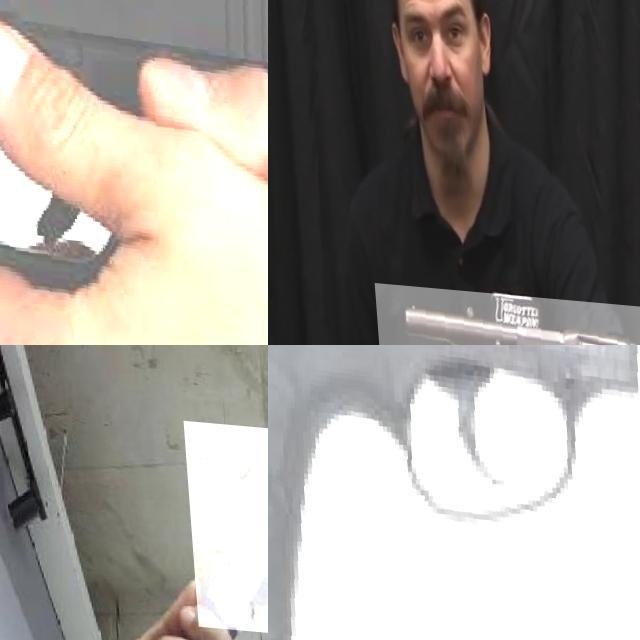-: (178, 414, 268, 629)
gun-knife-thesis - v11 Yolov5 augmented: (268, 345, 640, 640), (0, 0, 268, 345), (368, 280, 640, 345)
